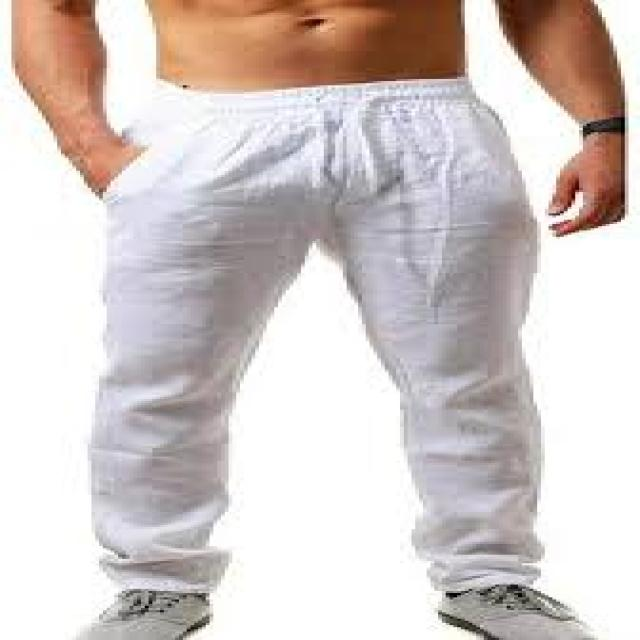long-pants: (87, 79, 545, 594)
